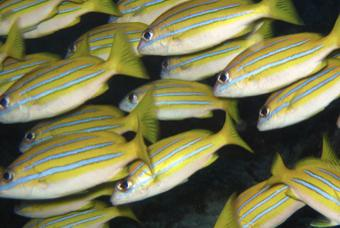Lutjanidae -Snappers-: (108, 106, 250, 213), (0, 26, 150, 125), (0, 112, 162, 198), (212, 0, 340, 98), (133, 0, 308, 56), (254, 145, 340, 228)
